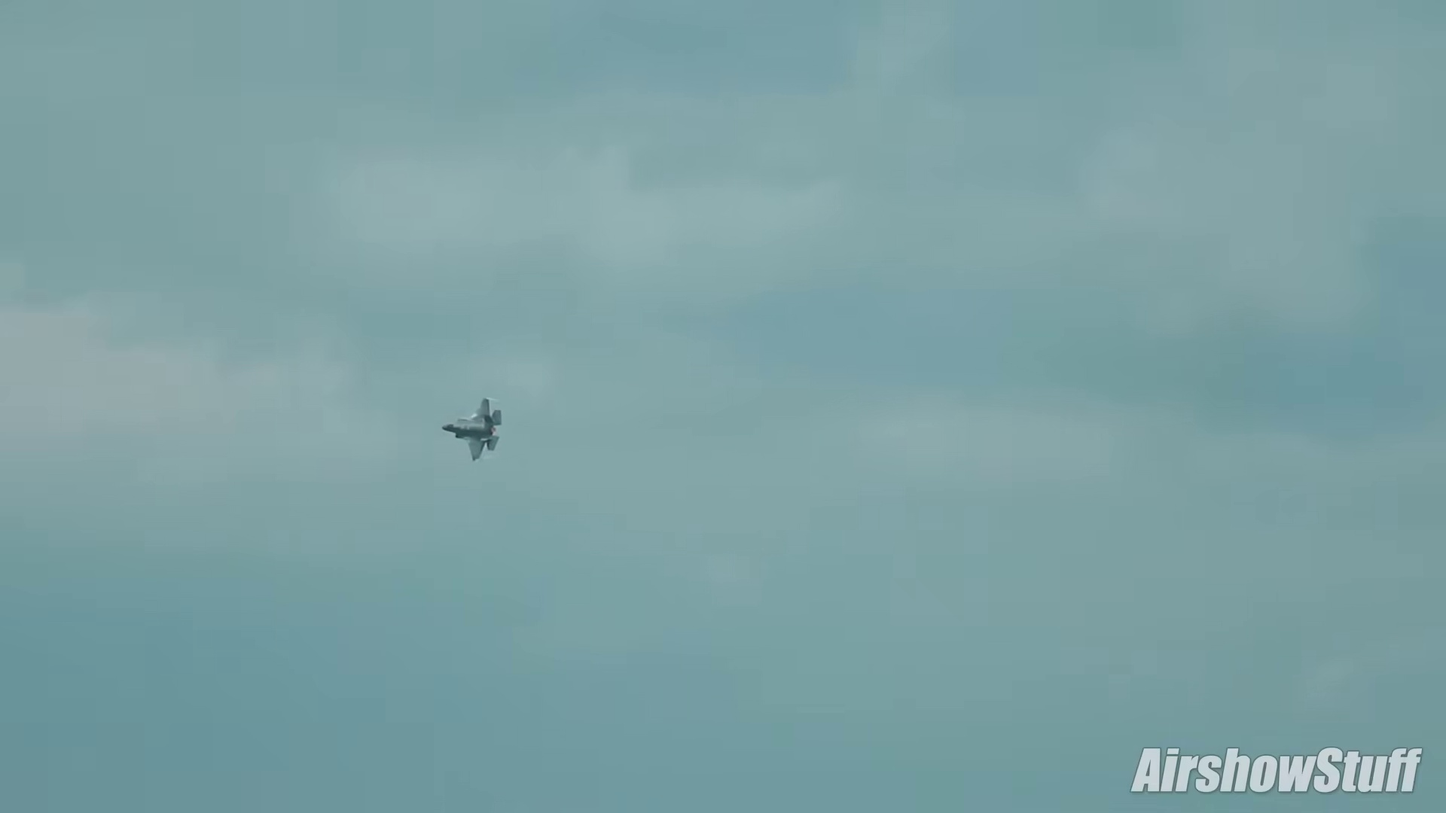F35: (433, 386, 510, 466)
